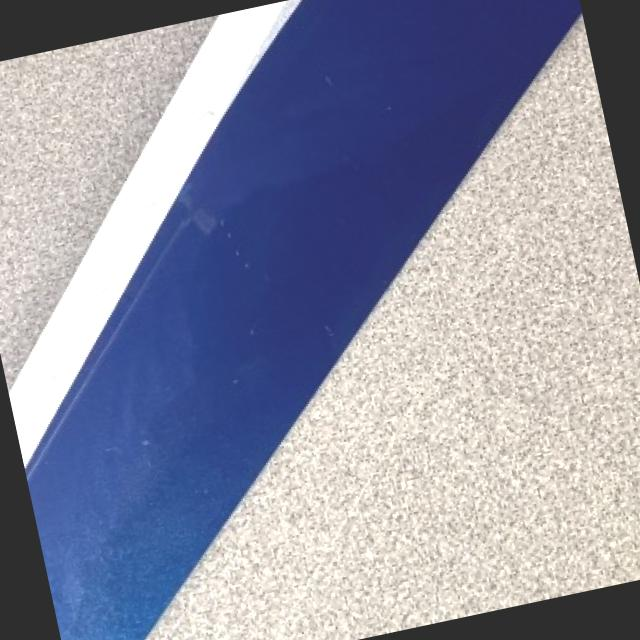healthy: (10, 0, 581, 640)
